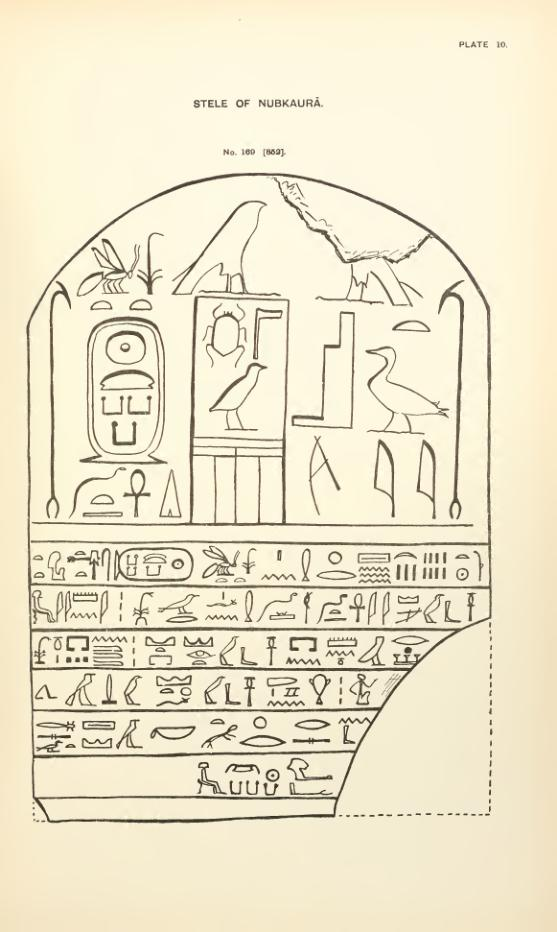circle: (79, 314, 169, 468), (113, 548, 194, 582)
